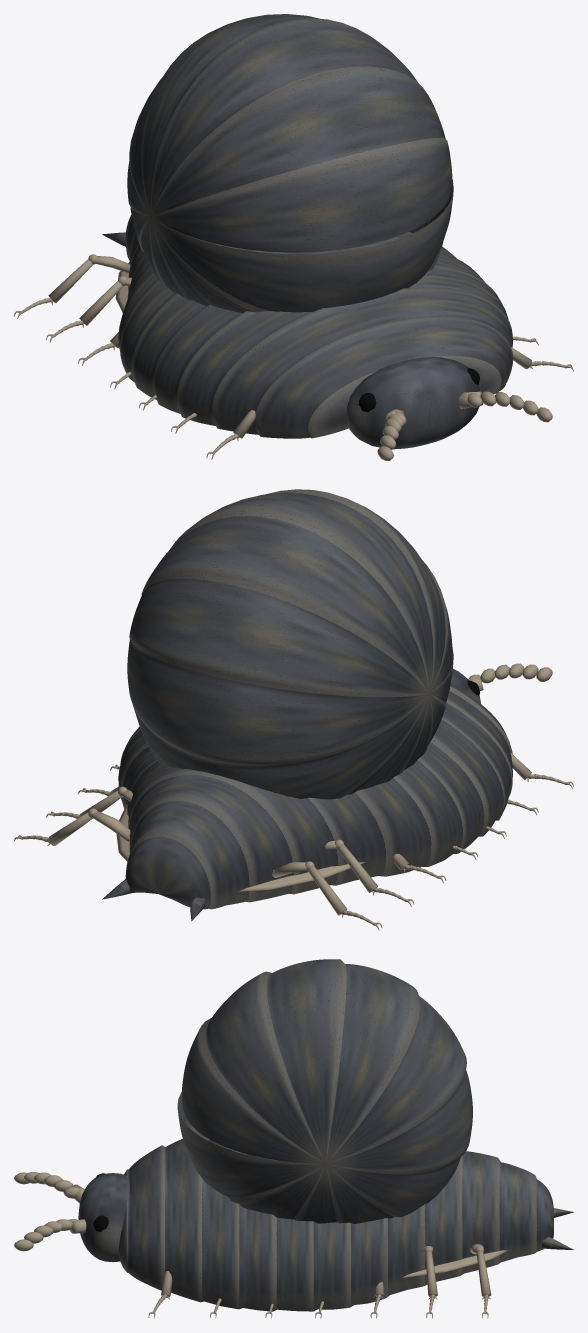
Rendered from bug_dango.glb.
3 views of the same model, one above another, from view 1: azimuth 30°, elevation 25°; view 2: azimuth 150°, elevation 25°; view 3: azimuth 270°, elevation 25° (orthographic). The views are drawn at different scales.
Parts seen in each view (by area): view 1: ball, shell, head_shell, ant_L_mesh, leg_6_R_mesh, ant_R_mesh, leg_5_R_mesh; view 2: ball, shell, under, leg_6_L_mesh, leg_6_R_mesh, ant_R_mesh, leg_5_R_mesh, leg_5_L_mesh; view 3: ball, shell, head_shell, ant_L_mesh, ant_R_mesh, under, leg_6_L_mesh, leg_5_L_mesh.
Part boxes in pixels (left/top/right/bottom): ball: left=127, top=14, right=453, bottom=313; shell: left=102, top=215, right=513, bottom=438; head_shell: left=346, top=357, right=481, bottom=449; ant_L_mesh: left=458, top=391, right=552, bottom=422; leg_6_R_mesh: left=14, top=254, right=130, bottom=318; ant_R_mesh: left=377, top=409, right=406, bottom=460; leg_5_R_mesh: left=46, top=276, right=131, bottom=342; ball: left=127, top=489, right=453, bottom=799; shell: left=102, top=685, right=512, bottom=921; under: left=116, top=804, right=365, bottom=891; leg_6_L_mesh: left=14, top=808, right=130, bottom=845; leg_6_R_mesh: left=272, top=861, right=382, bottom=930; ant_R_mesh: left=468, top=663, right=552, bottom=691; leg_5_R_mesh: left=325, top=839, right=414, bottom=906; leg_5_L_mesh: left=46, top=786, right=132, bottom=818; ball: left=177, top=959, right=472, bottom=1223; shell: left=118, top=1139, right=573, bottom=1311; head_shell: left=78, top=1173, right=129, bottom=1262; ant_L_mesh: left=14, top=1219, right=86, bottom=1251; ant_R_mesh: left=14, top=1172, right=84, bottom=1203; under: left=402, top=1250, right=508, bottom=1277; leg_6_L_mesh: left=470, top=1244, right=491, bottom=1318; leg_5_L_mesh: left=423, top=1246, right=437, bottom=1318.
Bounding box in the file's own units: 0.738 × 0.6234 × 1.13.
Materials: 4 (2 with a texture image).
